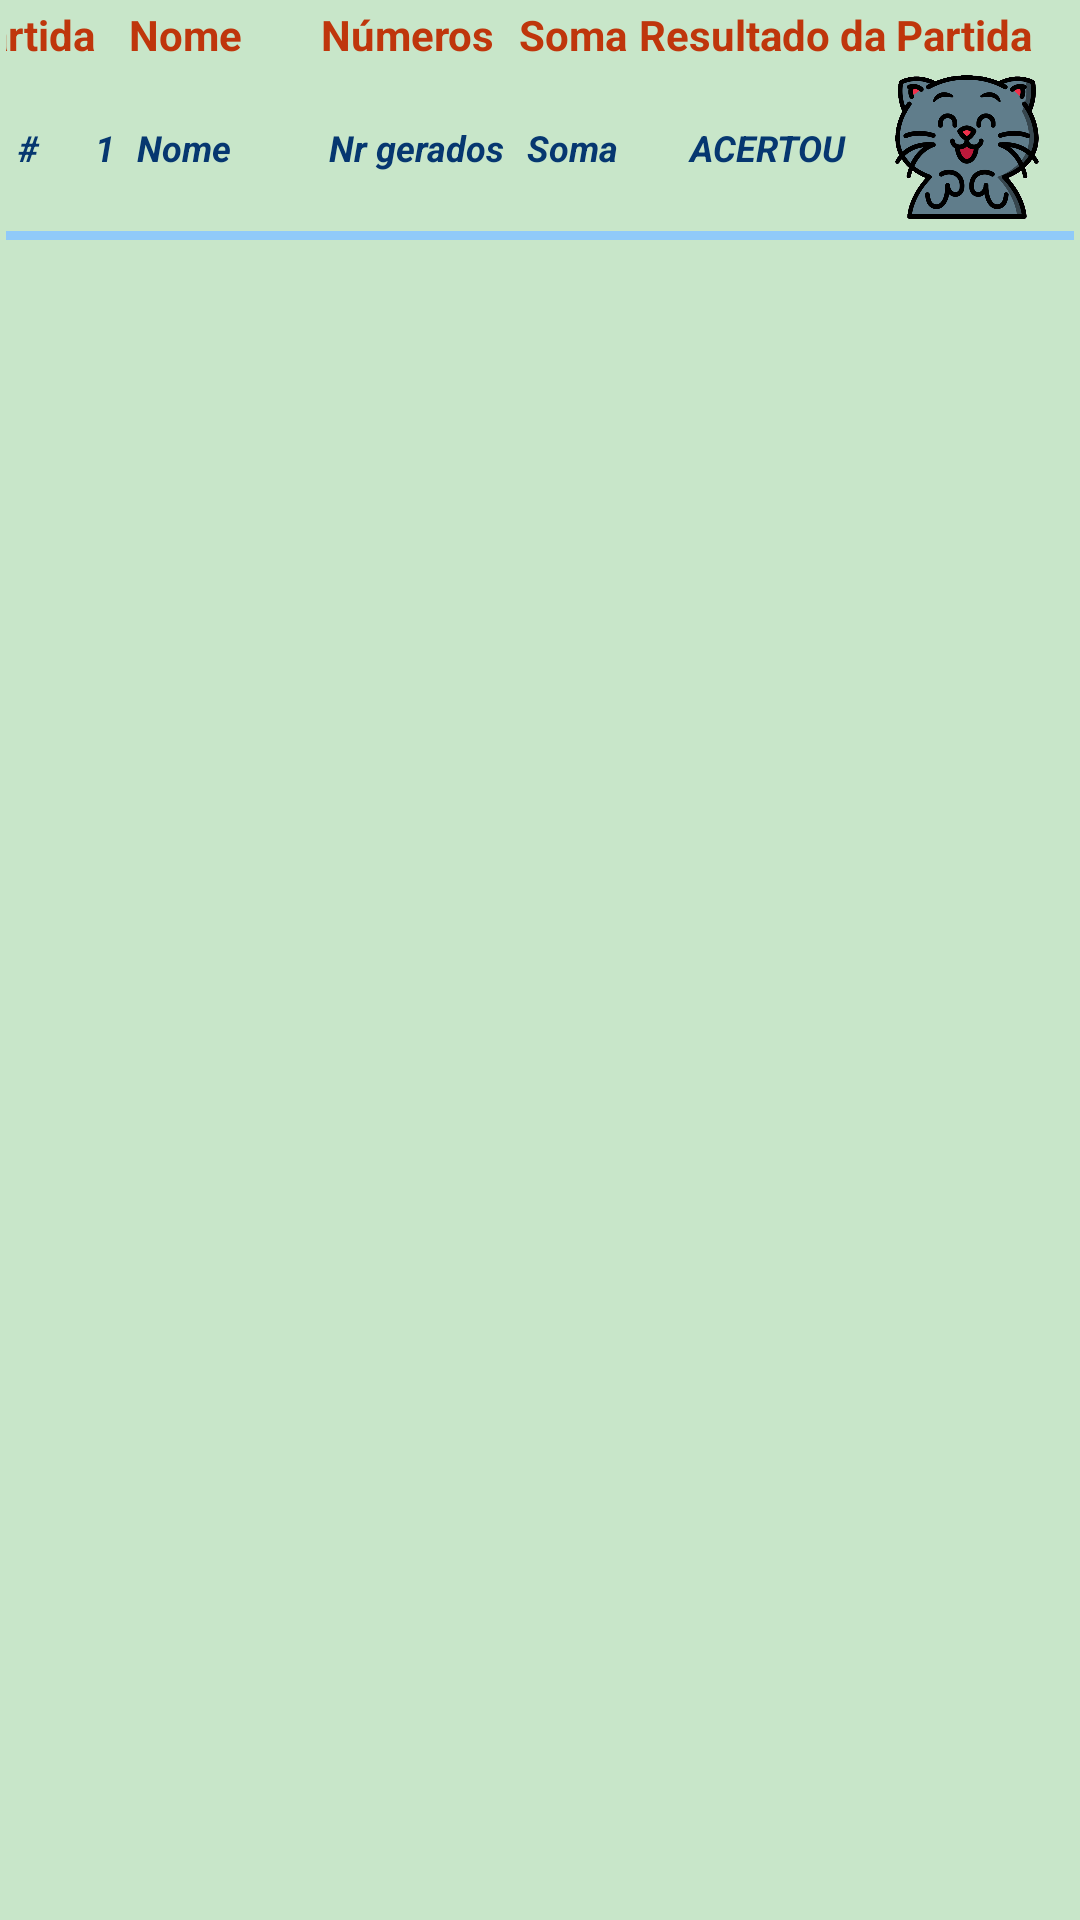

Point at icon controls on the screen. Image size 1080px x 1920px, points as [x,y].
Figura de um gatinho: [967,147]
